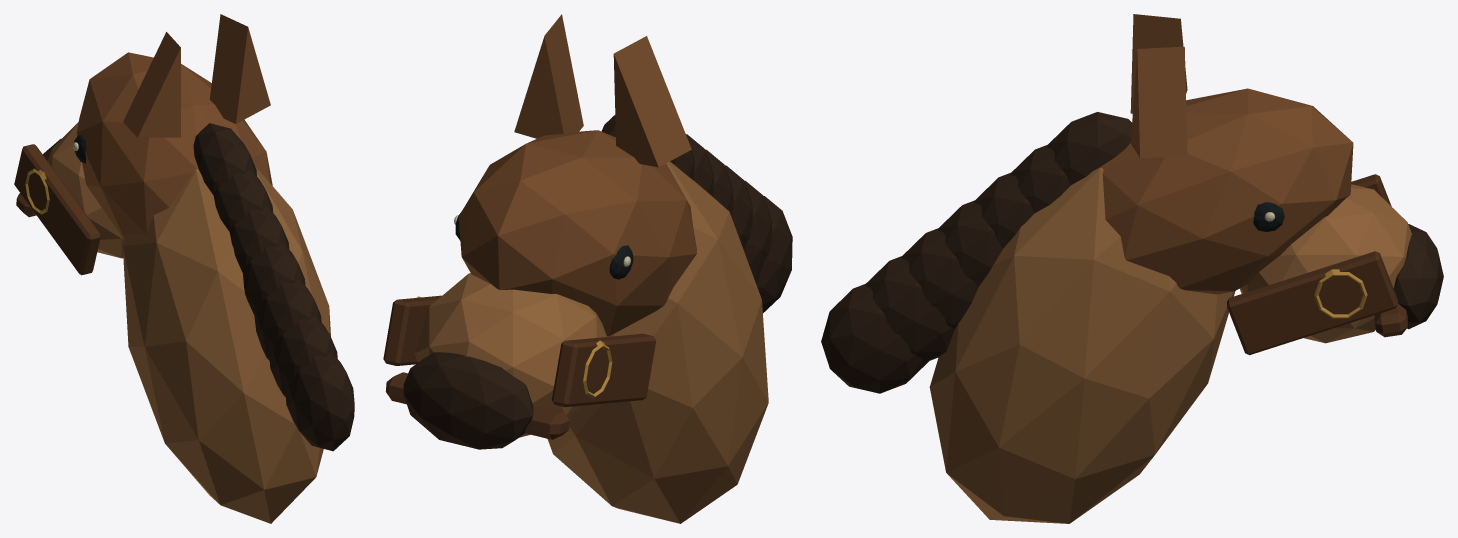
Rendered from HorseHead.glb.
The picture shows the model from 3 angles, left to right: view 1: azimuth 30°, elevation 25°; view 2: azimuth 150°, elevation 25°; view 3: azimuth 270°, elevation 25°; orthographic projection. The views are drawn at different scales.
Parts seen in each view (by area): view 1: Sculpture; view 2: Sculpture; view 3: Sculpture.
Boxes of the visible parts, x1=… form: Sculpture: x1=14, y1=14, x2=354, y2=523; Sculpture: x1=383, y1=14, x2=792, y2=523; Sculpture: x1=821, y1=14, x2=1443, y2=523.
Bounding box in the file's own units: 0.5 × 1.25 × 1.42.
